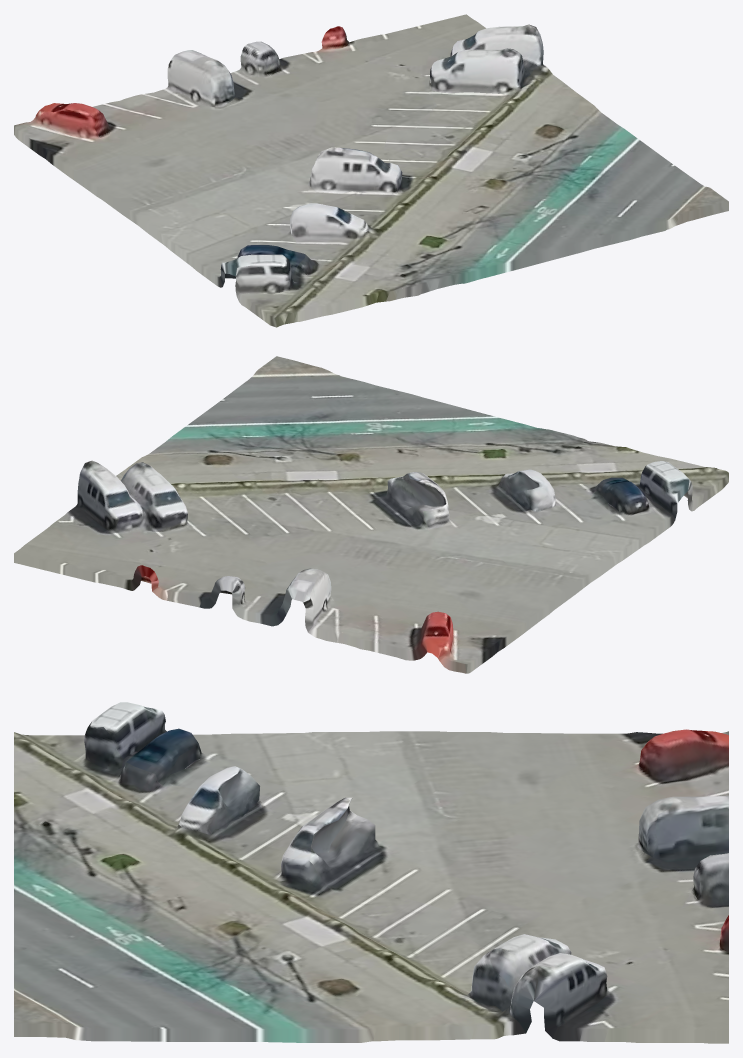
The model's file is z20-167775-405203-h0-yup-uvflip-v3-world.glb.
The picture shows the model from 3 angles, top to bottom: view 1: azimuth 30°, elevation 25°; view 2: azimuth 150°, elevation 25°; view 3: azimuth 270°, elevation 25°; orthographic projection. The views are drawn at different scales.
Size of the model in its own units: 30.16 by 3.64 by 30.32.
Materials: 1 (1 with a texture image).
